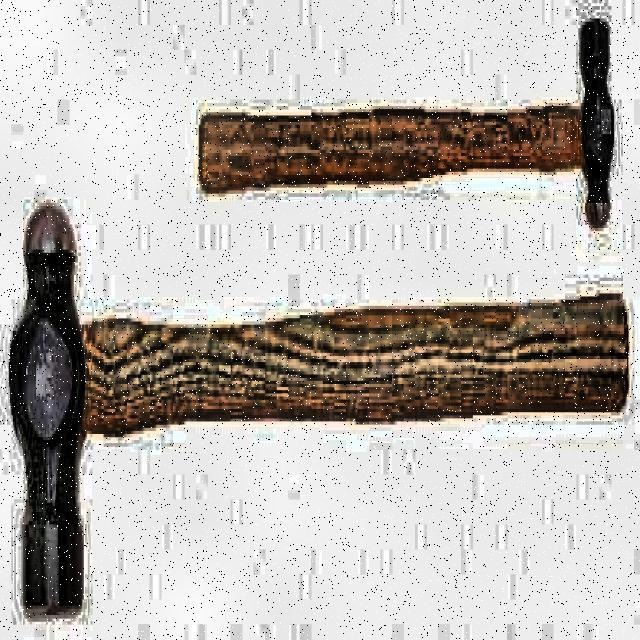hammer: (7, 199, 631, 621), (198, 15, 616, 227)
